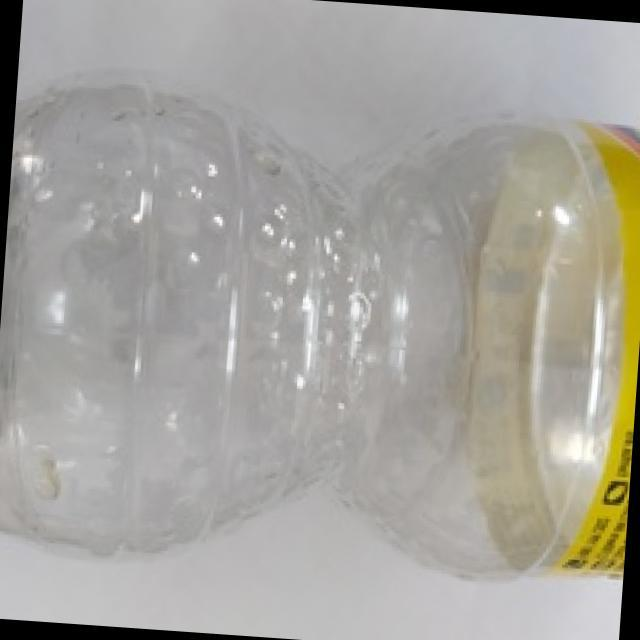good: (0, 83, 640, 593)
